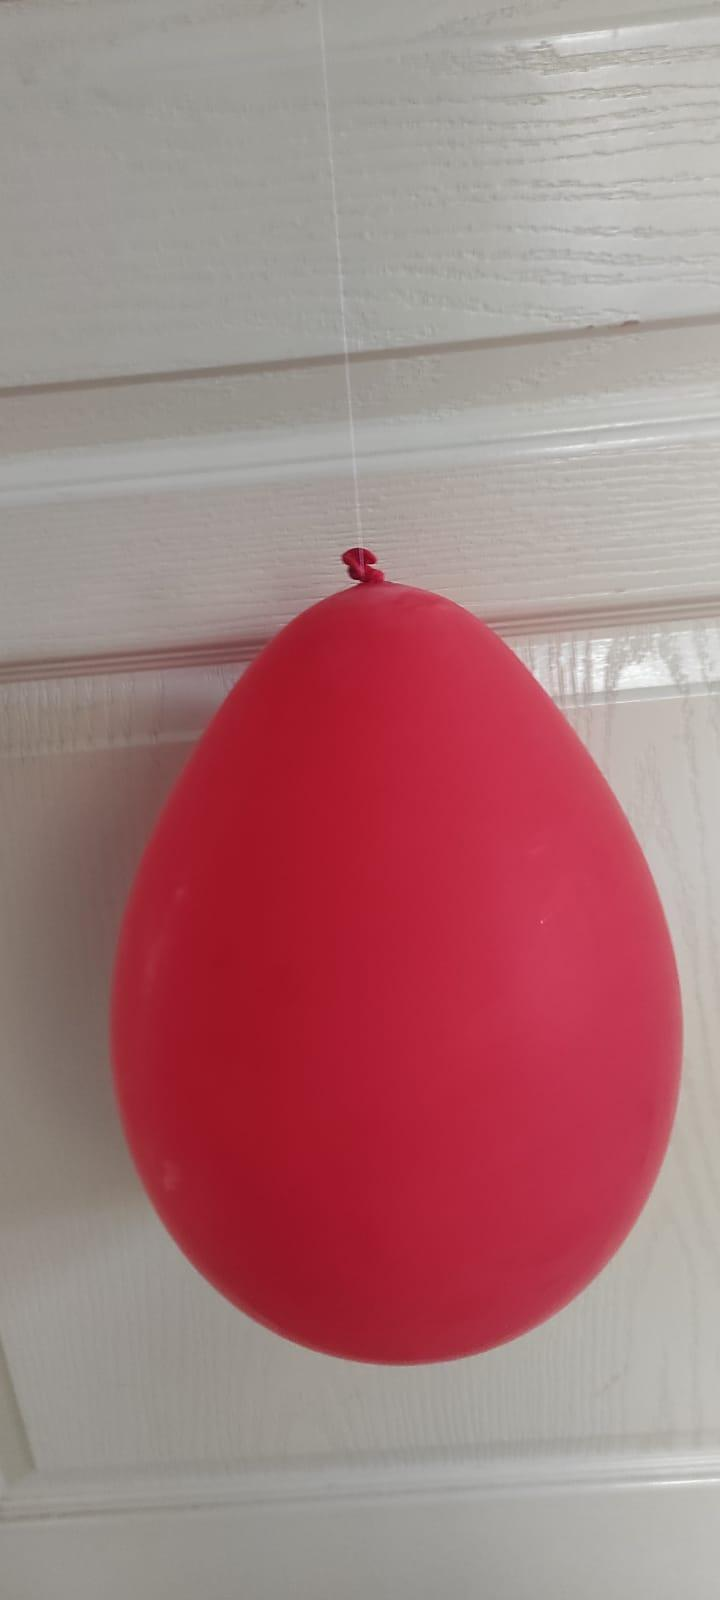red: (104, 534, 681, 1374)
